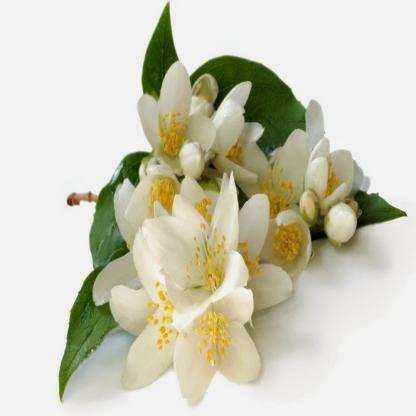Melati: (153, 200, 251, 336), (132, 75, 214, 180), (307, 136, 361, 229), (223, 93, 269, 200)
